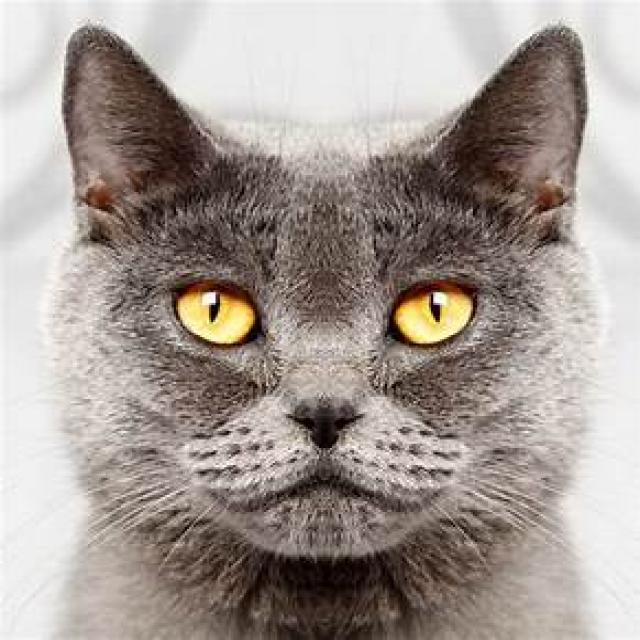cat: (36, 17, 612, 638)
